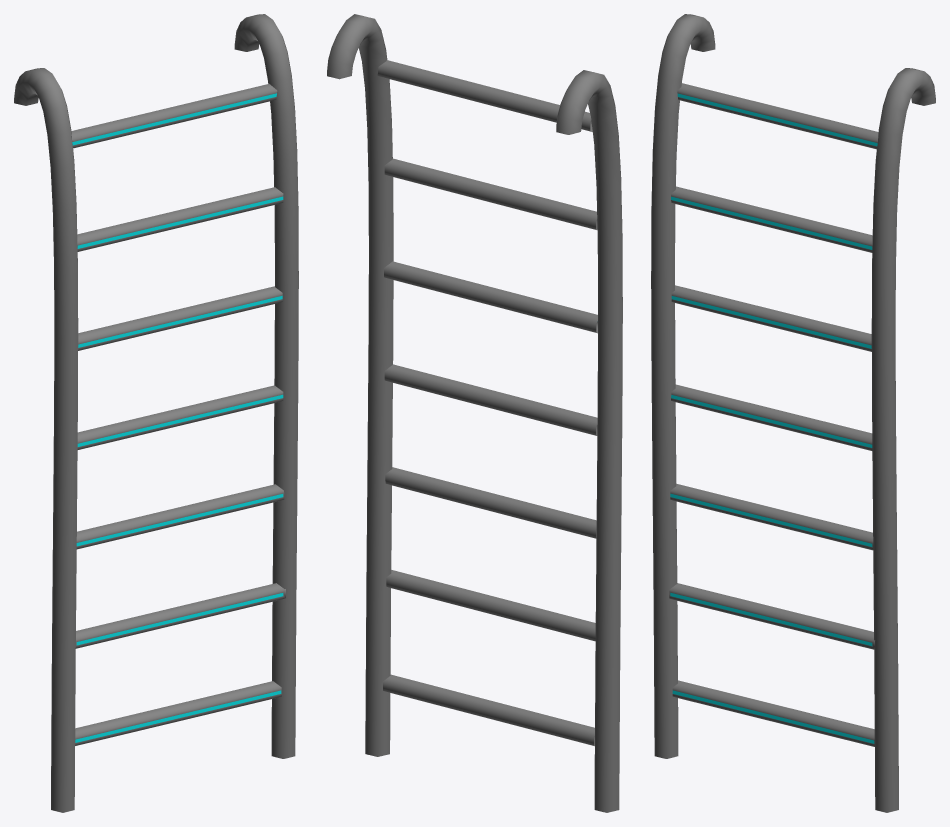
File: Ladder_002b.fbx
3 renders of one model, left to right at view 1: azimuth 30°, elevation 25°; view 2: azimuth 150°, elevation 25°; view 3: azimuth 330°, elevation 25°, orthographic. The views are drawn at different scales.
Visible parts, largest first — view 1: Ladder_002b; view 2: Ladder_002b; view 3: Ladder_002b.
Boxes of the visible parts, left/top/right/bottom form: Ladder_002b: left=14, top=14, right=298, bottom=812; Ladder_002b: left=327, top=14, right=622, bottom=812; Ladder_002b: left=651, top=14, right=935, bottom=812.
Bounding box in the file's own units: 144 × 404 × 53.09.
